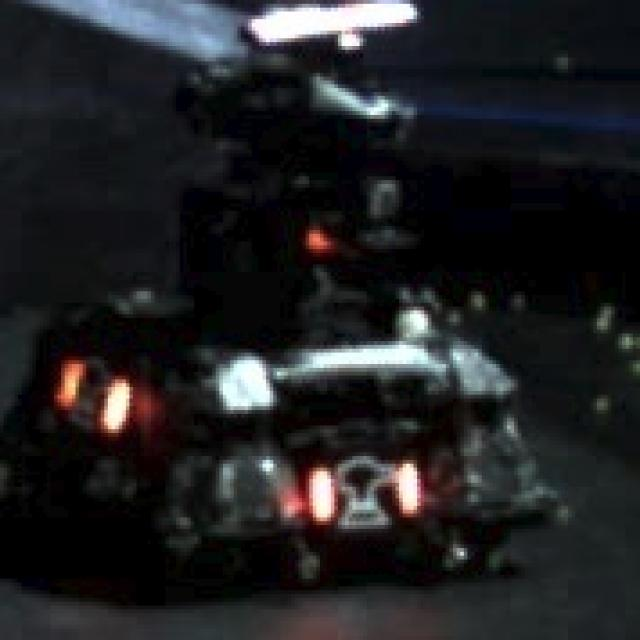Rs: (61, 349, 122, 433), (316, 464, 410, 517)
